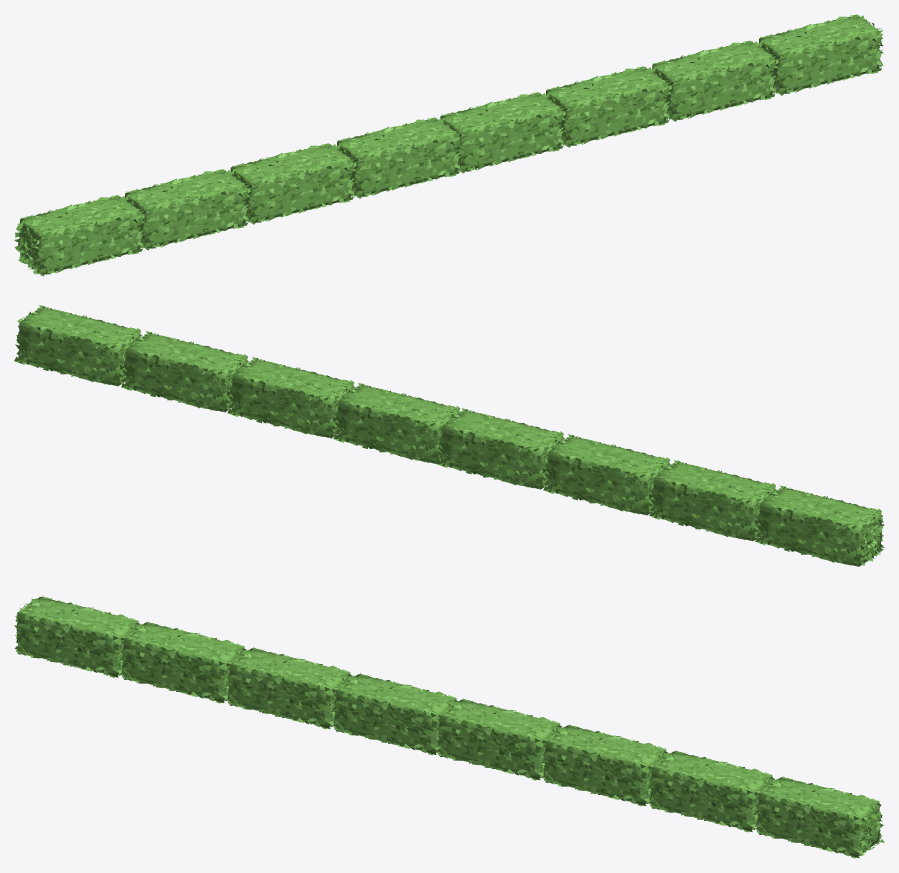
File: BUSH8.fbx
3 views of the same model, one above another, from view 1: azimuth 30°, elevation 25°; view 2: azimuth 150°, elevation 25°; view 3: azimuth 330°, elevation 25° (orthographic).
Parts seen in each view (by area): view 1: Cube.547; view 2: Cube.547; view 3: Cube.547.
Boxes of the visible parts, left/top/right/bottom form: Cube.547: left=14, top=14, right=883, bottom=276; Cube.547: left=14, top=305, right=884, bottom=566; Cube.547: left=14, top=596, right=884, bottom=858.
Bounding box in the file's own units: 29641 × 1469 × 1493.
